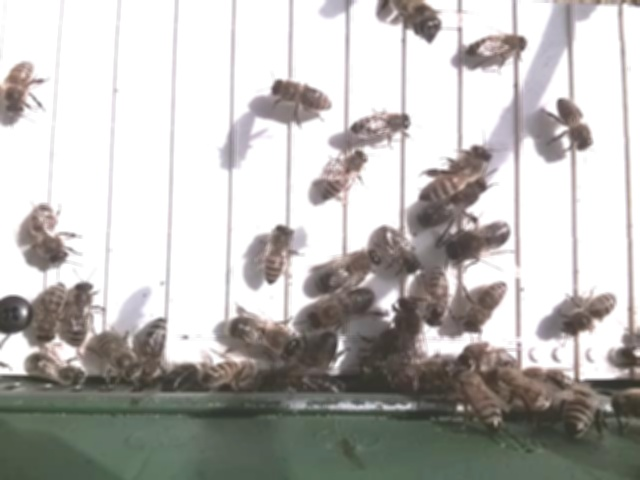Drone: (226, 310, 307, 361), (308, 282, 378, 332), (315, 245, 384, 294), (447, 215, 514, 263)
Worker: (417, 140, 494, 201), (27, 195, 74, 266), (557, 288, 620, 338), (317, 147, 371, 205), (463, 277, 511, 333), (258, 220, 298, 286), (269, 76, 336, 114), (554, 96, 596, 155), (379, 224, 426, 275), (346, 108, 416, 141), (65, 276, 96, 350), (2, 55, 39, 116), (31, 282, 66, 346), (466, 31, 532, 63), (139, 313, 170, 381), (422, 261, 452, 328)
